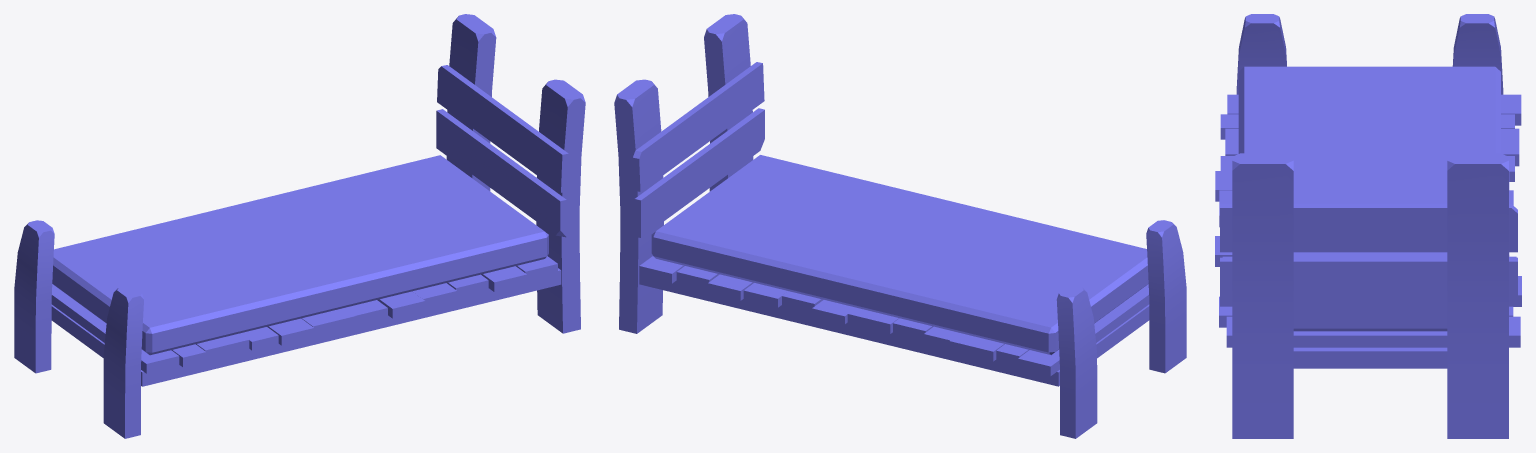
Rendered from SM_Dummy_Bed.fbx.
3 views of the same model, side by side, from view 1: azimuth 30°, elevation 25°; view 2: azimuth 150°, elevation 25°; view 3: azimuth 270°, elevation 25° (orthographic). The views are drawn at different scales.
Visible parts, largest first — view 1: SM_Dummy_Bed; view 2: SM_Dummy_Bed; view 3: SM_Dummy_Bed.
Boxes of the visible parts, box(x1,y1,x2,y2) form: SM_Dummy_Bed: box(14, 14, 585, 438); SM_Dummy_Bed: box(614, 14, 1186, 438); SM_Dummy_Bed: box(1215, 14, 1521, 438).
Bounding box in the file's own units: 217 × 105 × 105.
1 material, 1 textured.
